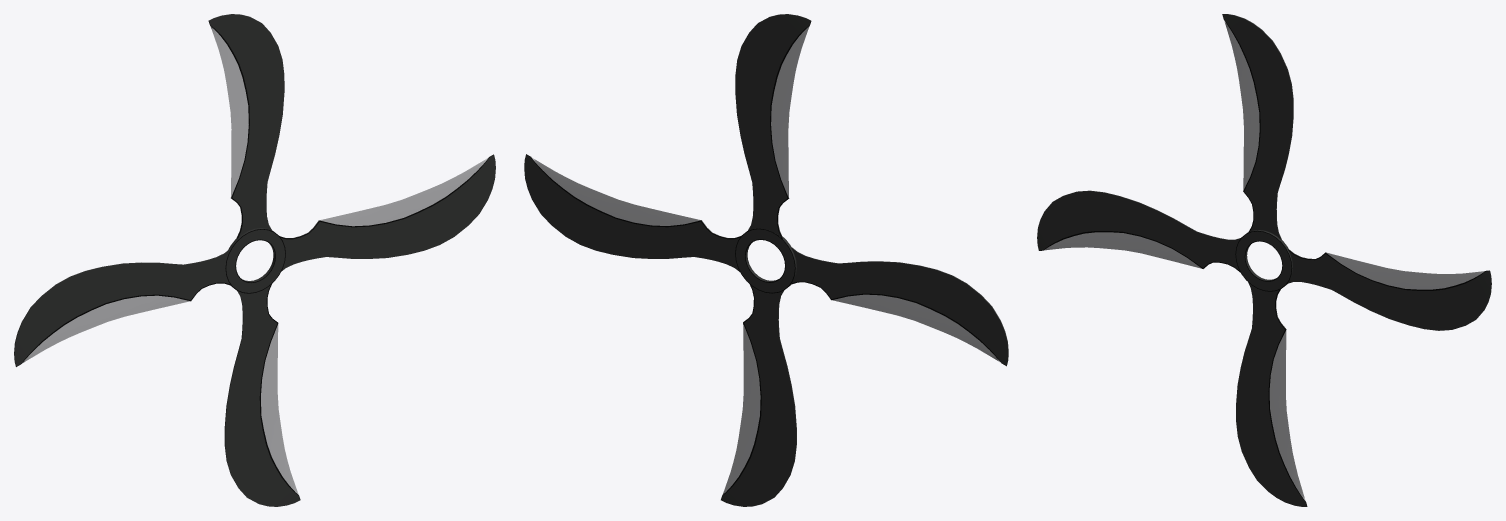
The model's file is windmill_shuriken.obj.
3 views of the same model, side by side, from view 1: azimuth 30°, elevation 25°; view 2: azimuth 150°, elevation 25°; view 3: azimuth 330°, elevation 25° (orthographic). The views are drawn at different scales.
Visible parts, largest first — view 1: SK_WEP_WindmillShuriken; view 2: SK_WEP_WindmillShuriken; view 3: SK_WEP_WindmillShuriken.
Boxes of the visible parts, bbox=[...] form: SK_WEP_WindmillShuriken: bbox=[14, 14, 495, 506]; SK_WEP_WindmillShuriken: bbox=[524, 14, 1008, 506]; SK_WEP_WindmillShuriken: bbox=[1037, 14, 1491, 506].
Bounding box in the file's own units: 113 × 113 × 0.7474.
